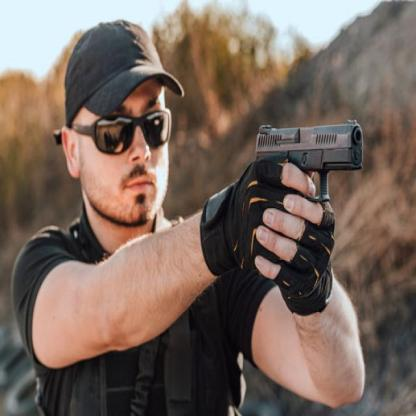handgun: (256, 121, 366, 203)
